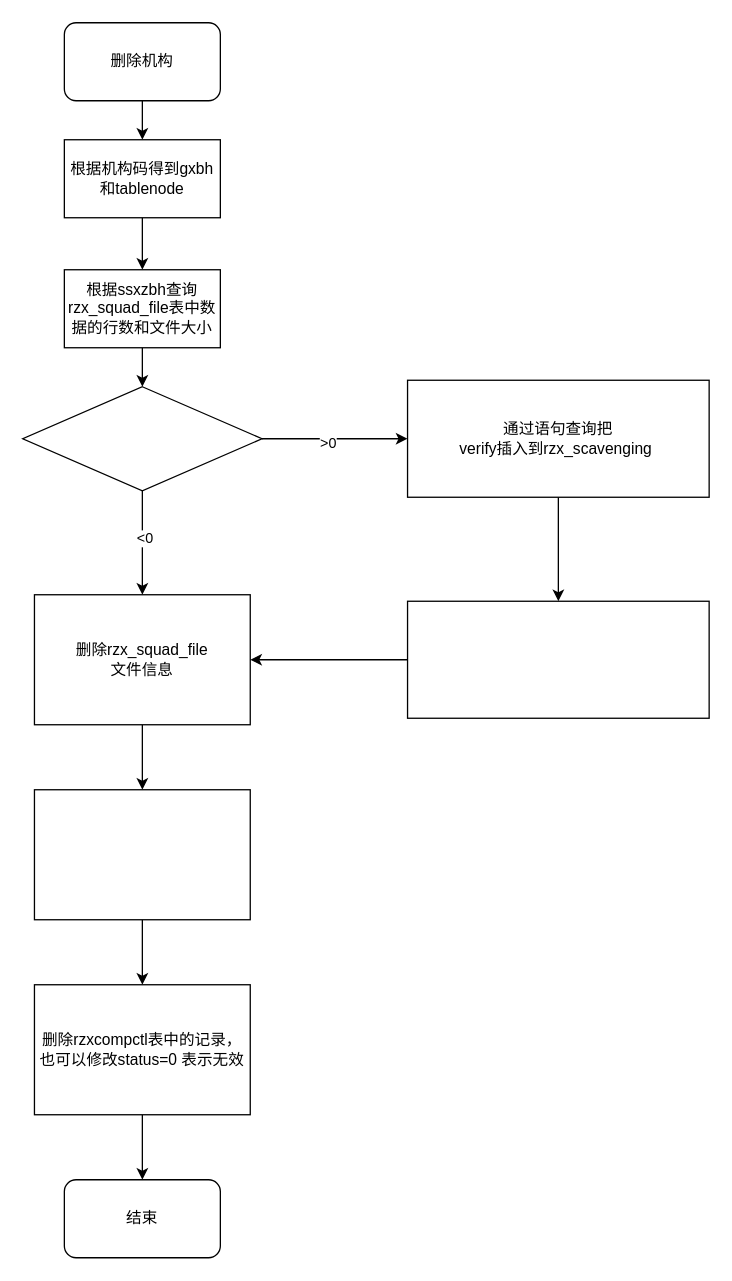
Image size: 732x1281. Some labels were removed from this diagram. The shapes that lost their labels are listed below. From the top down, each one's box as (x1, y1, x2, y2) in pixels, then its label:
(21, 385, 262, 491): 查询结果
(406, 600, 709, 718): 磁盘删除相关信息插入到 rzx_squad_usage_space表中
(33, 788, 250, 920): 删除rzx_shared表中记录，可以修改flag=1 表示无效
